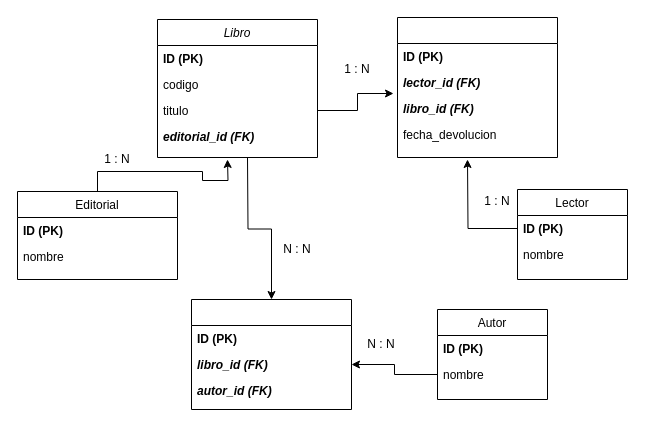
The diagram is 645 pixels wide and 427 high, and some of its shapes have lost their labels. Each missing label, with the box of its shape:
Libro_autor: (190, 298, 352, 410)
Prestamo: (396, 16, 558, 158)
